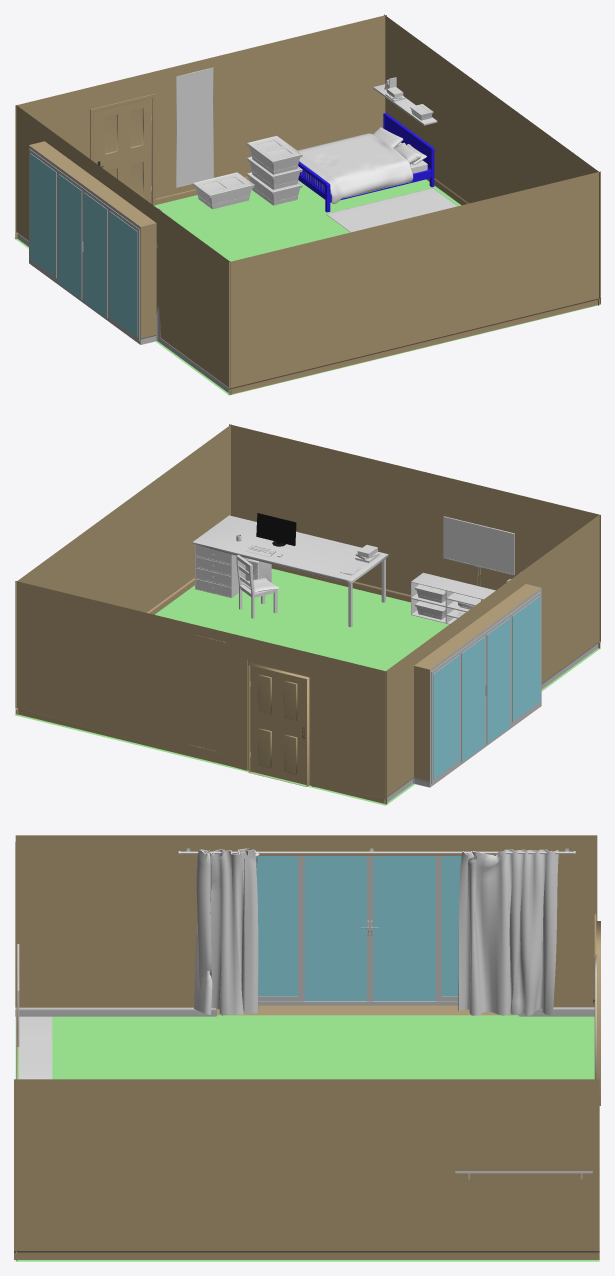
The picture shows the model from 3 angles, top to bottom: view 1: azimuth 30°, elevation 25°; view 2: azimuth 150°, elevation 25°; view 3: azimuth 270°, elevation 25°; orthographic projection. The views are drawn at different scales.
Parts seen in each view (by area): view 1: Wall2, Wall3, Right handle, Wall1, Floor, Duvet, Mirror, Rug, Bedframe, Box004, Box003, Box001 (+1 smaller); view 2: Wall3, Right handle, Wall2, Wall1, Floor, Desk, TV, Console shelf, Moniter, Chair; view 3: Wall1, Right handle, Floor, Right curtain, Left Curtain, Console shelf, Wall3, Curtain pole.
Boxes of the visible parts, left/top/right/bottom form: Wall2: left=228, top=171, right=600, bottom=394; Wall3: left=15, top=15, right=386, bottom=239; Right handle: left=16, top=105, right=231, bottom=394; Wall1: left=384, top=14, right=599, bottom=305; Floor: left=14, top=179, right=600, bottom=395; Duvet: left=298, top=133, right=413, bottom=204; Mirror: left=176, top=67, right=213, bottom=187; Rug: left=326, top=188, right=457, bottom=232; Bedframe: left=298, top=113, right=434, bottom=212; Box004: left=192, top=172, right=254, bottom=208; Box003: left=247, top=135, right=302, bottom=174; Box001: left=247, top=172, right=302, bottom=205; Wall3: left=15, top=581, right=387, bottom=804; Right handle: left=384, top=515, right=599, bottom=804; Wall2: left=229, top=424, right=600, bottom=648; Wall1: left=15, top=424, right=231, bottom=715; Floor: left=14, top=568, right=600, bottom=805; Desk: left=192, top=515, right=388, bottom=627; TV: left=443, top=516, right=514, bottom=575; Console shelf: left=411, top=572, right=495, bottom=624; Moniter: left=256, top=513, right=296, bottom=546; Chair: left=236, top=555, right=277, bottom=618; Wall1: left=14, top=1079, right=599, bottom=1259; Right handle: left=15, top=835, right=597, bottom=1016; Floor: left=15, top=1015, right=599, bottom=1261; Right curtain: left=458, top=849, right=558, bottom=1016; Left Curtain: left=194, top=848, right=259, bottom=1015; Console shelf: left=19, top=1016, right=52, bottom=1079; Wall3: left=594, top=914, right=600, bottom=1253; Curtain pole: left=178, top=848, right=575, bottom=854.
Bounding box in the file's own units: 7296 × 2407 × 7054.
